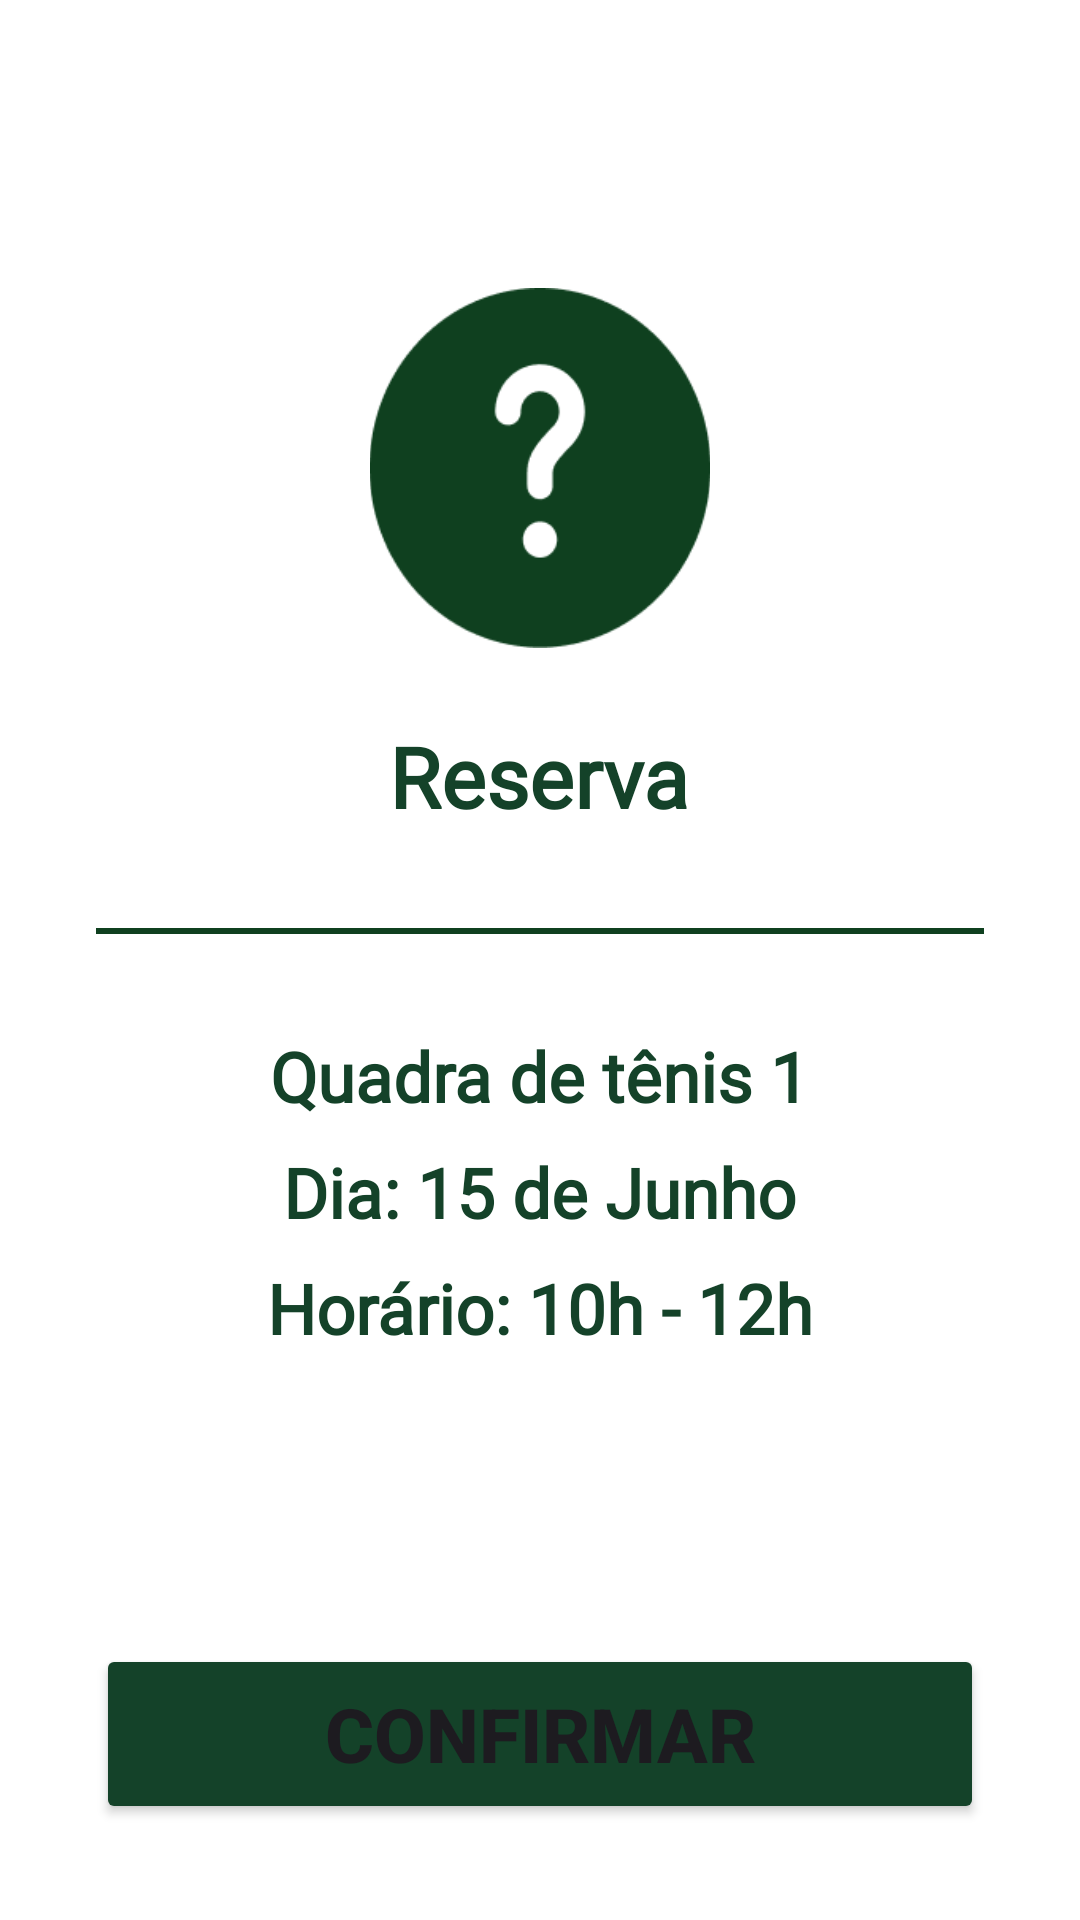

Where to tap for icons on this 1080 x 1920 app screen, as (x=x, y=y):
question mark: (x=540, y=468)
